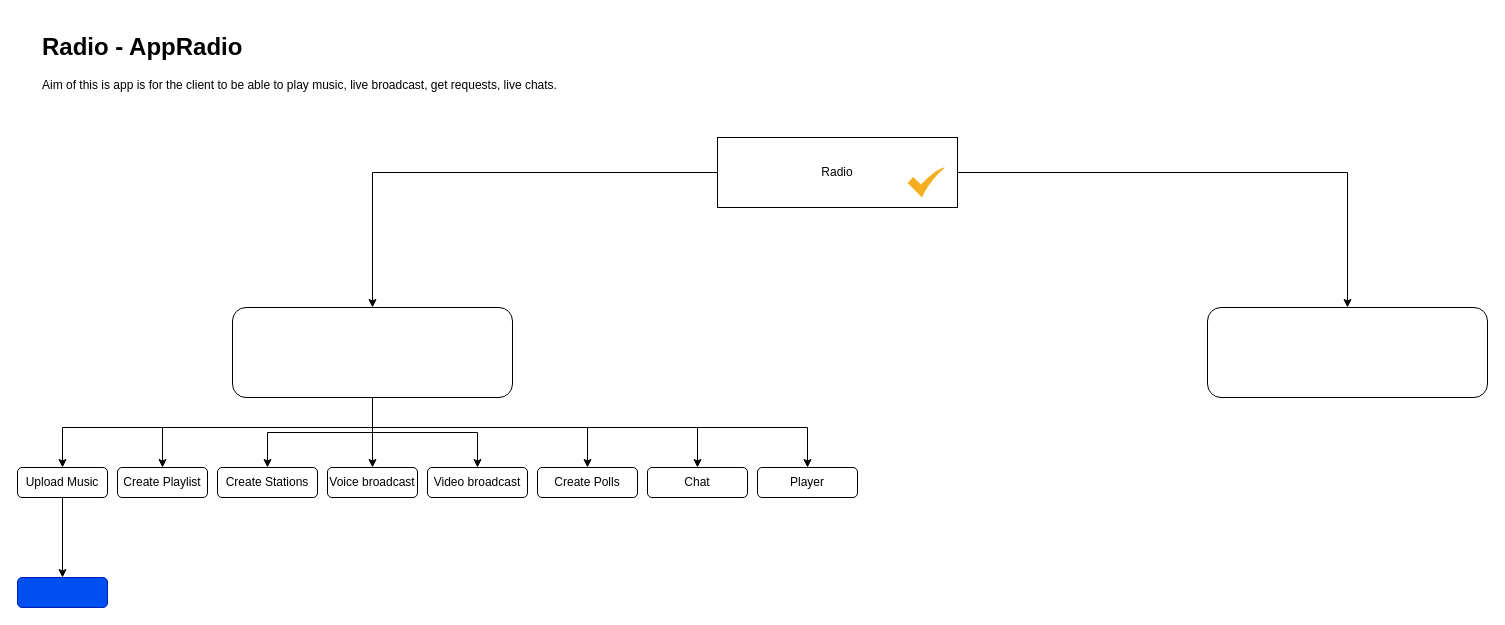
Some shapes in this 1505 by 625 pixel diagram are drawn without their labels. The shapes that lost their labels are listed below. From the top down, each one's centre as x and y in pixels, then its label:
[372,352]: Dashboard (client - component)
[1347,352]: Radio (user - component)
[62,592]: UploadMusic
